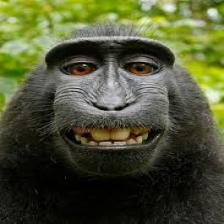monkey: (0, 17, 217, 222)
